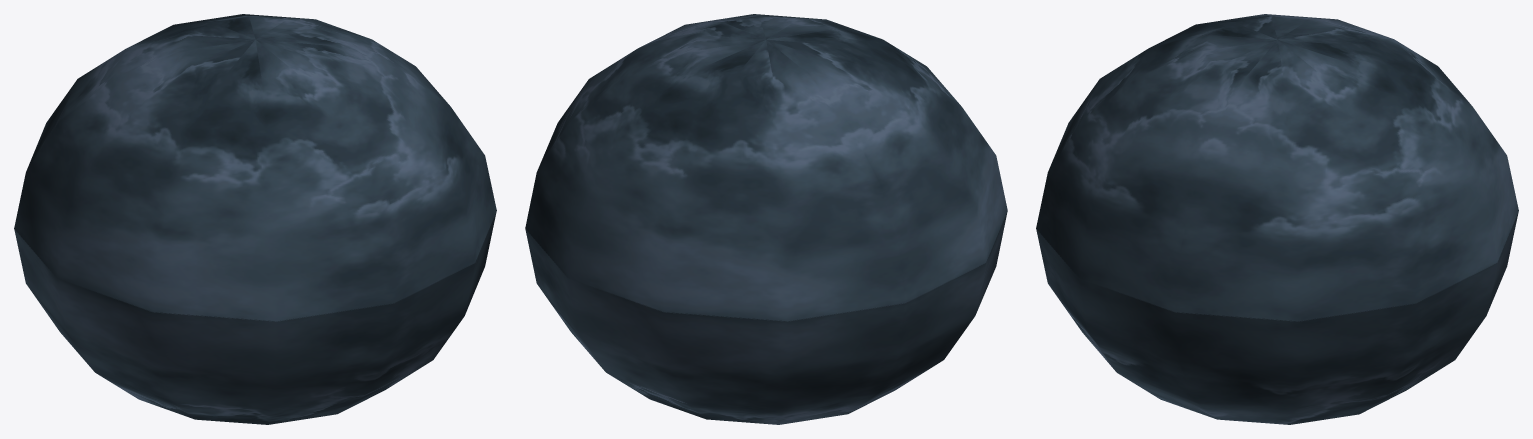
Rendered from env_kam_landingpad_pre.glb.
3 views of the same model, side by side, from view 1: azimuth 30°, elevation 25°; view 2: azimuth 150°, elevation 25°; view 3: azimuth 270°, elevation 25° (orthographic).
Visible parts, largest first — view 1: skybox_01_mesh, skybox_01_mesh (1); view 2: skybox_01_mesh, skybox_01_mesh (1); view 3: skybox_01_mesh, skybox_01_mesh (1).
Part boxes in pixels (left/top/right/bottom): skybox_01_mesh: left=14, top=14, right=496, bottom=321; skybox_01_mesh (1): left=14, top=210, right=496, bottom=424; skybox_01_mesh: left=525, top=14, right=1007, bottom=321; skybox_01_mesh (1): left=525, top=211, right=1007, bottom=424; skybox_01_mesh: left=1036, top=14, right=1518, bottom=321; skybox_01_mesh (1): left=1036, top=212, right=1518, bottom=424.
Size of the model in its own units: 289 by 237 by 289.
9 materials, 9 textured.
